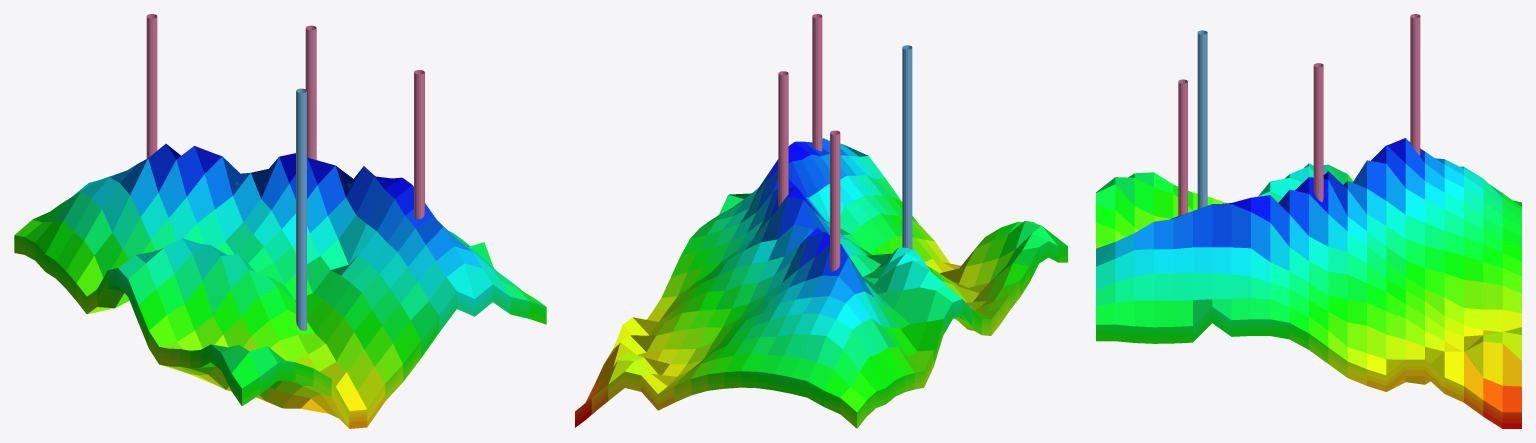
File: depth-v1.glb
The picture shows the model from 3 angles, left to right: view 1: azimuth 30°, elevation 25°; view 2: azimuth 150°, elevation 25°; view 3: azimuth 270°, elevation 25°; orthographic projection. The views are drawn at different scales.
Parts seen in each view (by area): view 1: reservoir, INJ, PROD-2, PROD-3, PROD-1; view 2: reservoir, INJ, PROD-2, PROD-3, PROD-1; view 3: reservoir, INJ, PROD-2, PROD-1, PROD-3.
Boxes of the visible parts, left/top/right/bottom form: reservoir: left=14, top=143, right=546, bottom=428; INJ: left=296, top=88, right=306, bottom=330; PROD-2: left=146, top=14, right=157, bottom=158; PROD-3: left=414, top=70, right=424, bottom=219; PROD-1: left=305, top=25, right=316, bottom=159; reservoir: left=575, top=138, right=1067, bottom=428; INJ: left=902, top=45, right=912, bottom=248; PROD-2: left=830, top=130, right=840, bottom=271; PROD-3: left=812, top=14, right=822, bottom=151; PROD-1: left=778, top=71, right=788, bottom=206; reservoir: left=1096, top=138, right=1521, bottom=428; INJ: left=1197, top=30, right=1207, bottom=208; PROD-2: left=1410, top=14, right=1420, bottom=155; PROD-1: left=1313, top=63, right=1323, bottom=201; PROD-3: left=1178, top=79, right=1187, bottom=216.
Size of the model in its own units: 0.3864 by 0.4023 by 0.5.
Materials: 3 (1 with a texture image).
